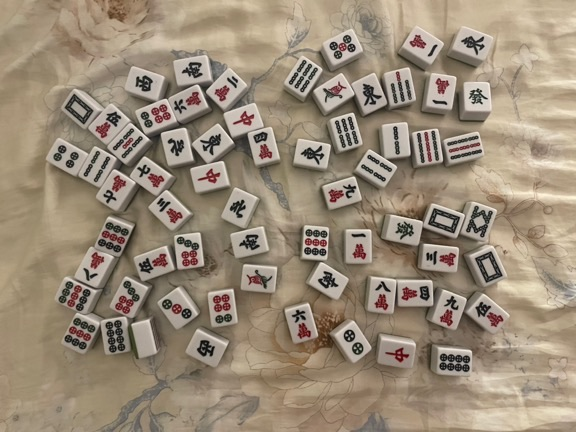b-1: (322, 79, 348, 103), (246, 269, 274, 289)
b-2: (392, 125, 402, 155)
b-4: (360, 154, 393, 182), (82, 151, 110, 182)
b-5: (112, 128, 144, 159)
b-6: (288, 60, 318, 92), (332, 117, 360, 148)
b-7: (390, 71, 413, 104)
b-8: (466, 204, 493, 238)
b-9: (447, 135, 482, 161), (415, 130, 440, 163)
c-1: (410, 34, 439, 58), (432, 78, 451, 106), (374, 280, 391, 311), (350, 232, 367, 260)
c-2: (214, 75, 239, 102)
c-3: (426, 249, 456, 269)
c-4: (253, 132, 274, 160), (401, 284, 430, 303)
c-5: (475, 300, 504, 328), (156, 197, 184, 224), (95, 111, 122, 138), (138, 251, 168, 275)
c-6: (290, 308, 313, 340), (174, 91, 202, 114)
c-7: (136, 164, 165, 189), (102, 175, 127, 204)
c-8: (82, 251, 105, 282)
c-9: (327, 183, 357, 205), (439, 295, 459, 327)
d-2: (342, 329, 365, 357)
d-3: (162, 298, 192, 320)
d-4: (52, 145, 79, 169)
d-5: (328, 35, 355, 60)
d-6: (211, 293, 233, 324)
d-7: (114, 279, 140, 315), (175, 236, 201, 268)
d-8: (103, 320, 126, 354), (438, 353, 471, 373)
d-9: (64, 318, 95, 351), (58, 281, 92, 311), (98, 222, 129, 254), (304, 229, 328, 258)
honors-east: (299, 145, 326, 165), (461, 35, 486, 56), (361, 82, 382, 106), (199, 134, 222, 155)
honors-green: (467, 87, 489, 106), (395, 220, 414, 241)
honors-north: (167, 137, 186, 158), (230, 198, 248, 219)
honors-red: (232, 109, 256, 128), (385, 345, 410, 363), (197, 168, 221, 185)
honors-south: (316, 270, 340, 291), (238, 233, 261, 252), (180, 61, 204, 79)
honors-west: (194, 338, 215, 359), (134, 74, 154, 93)
honors-white: (64, 94, 94, 124), (475, 251, 503, 283), (427, 208, 461, 234)
